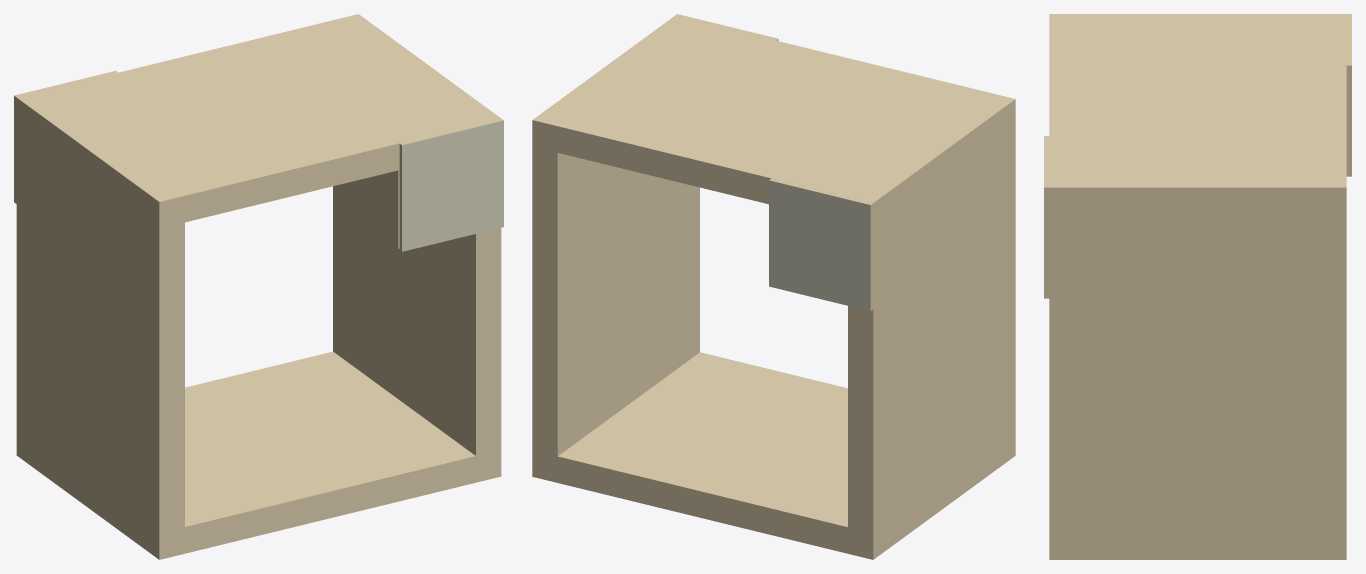
The model's file is dt_box_panda.dae.
The picture shows the model from 3 angles, left to right: view 1: azimuth 30°, elevation 25°; view 2: azimuth 150°, elevation 25°; view 3: azimuth 270°, elevation 25°; orthographic projection. The views are drawn at different scales.
Visible parts, largest first — view 1: case11.011; view 2: case11.011; view 3: case11.011.
Part boxes in pixels (x1,y1,x2,y2): case11.011: (14, 14, 503, 559); case11.011: (532, 14, 1015, 559); case11.011: (1044, 14, 1351, 559).
Bounding box in the file's own units: 0.282 × 0.2113 × 0.282.
